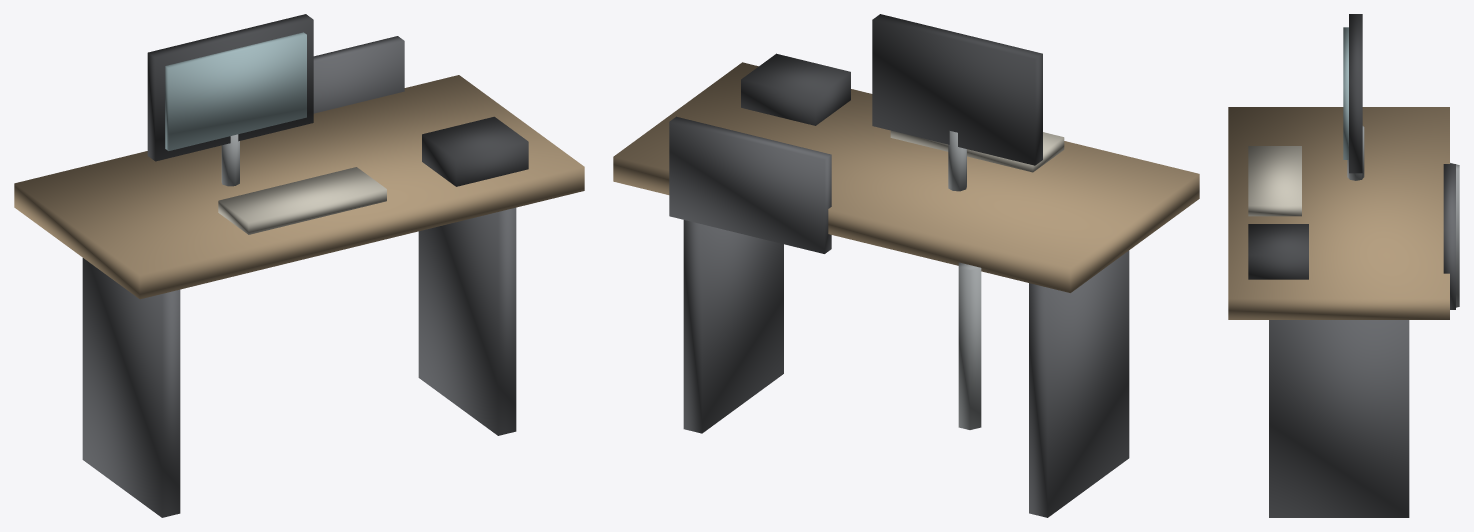
Rendered from modern_workstation__service.glb.
3 renders of one model, left to right at view 1: azimuth 30°, elevation 25°; view 2: azimuth 150°, elevation 25°; view 3: azimuth 270°, elevation 25°, orthographic. The views are drawn at different scales.
Parts seen in each view (by area): view 1: world; view 2: world; view 3: world.
Part boxes in pixels (left/top/right/bottom): world: left=14, top=14, right=584, bottom=517; world: left=613, top=14, right=1199, bottom=517; world: left=1228, top=14, right=1459, bottom=517.
Size of the model in its own units: 1.35 by 1.21 by 0.6892.
